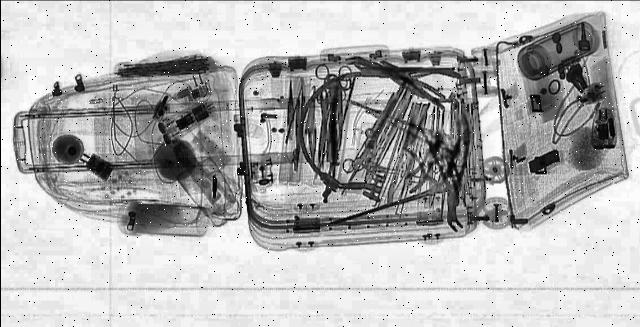Scissors: (334, 138, 378, 174), (313, 66, 352, 106)
